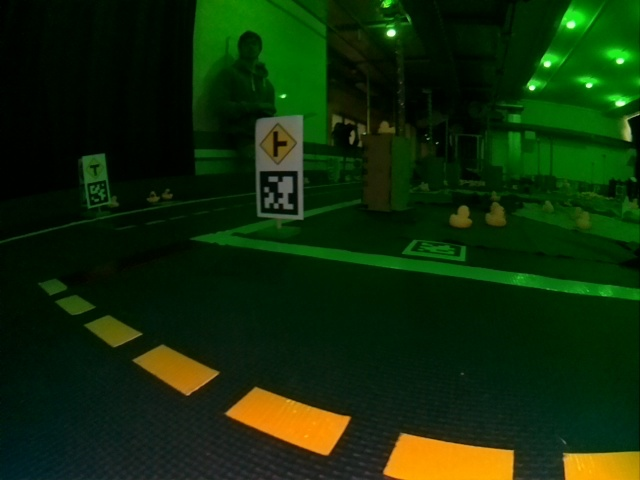Duckie: (450, 207, 471, 227), (486, 206, 506, 226), (148, 190, 158, 200), (109, 196, 117, 206), (543, 201, 551, 211), (163, 189, 172, 197)
Intersection sign: (257, 121, 297, 166), (85, 159, 106, 179)
QR code: (258, 176, 301, 217), (402, 238, 466, 262), (87, 183, 109, 206)
